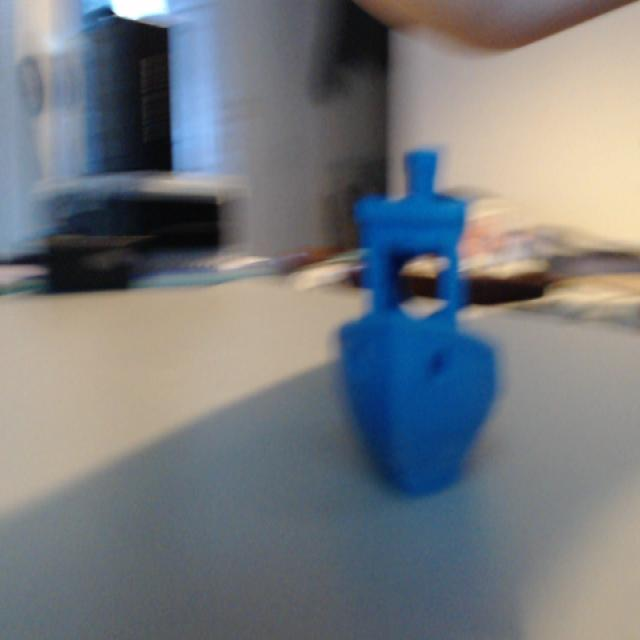benchy: (334, 143, 502, 497)
